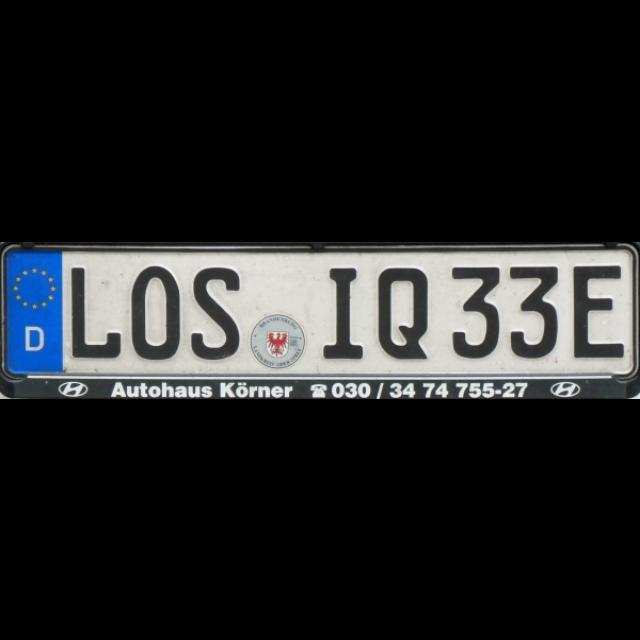license-plates: (0, 245, 640, 400)
